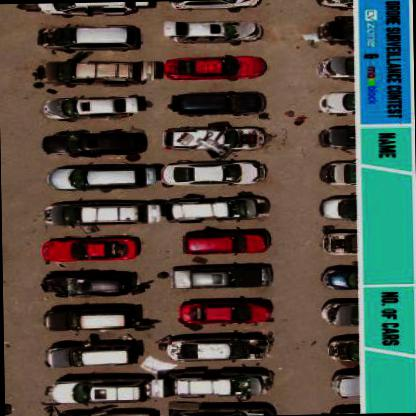car: (50, 376, 163, 405), (158, 159, 266, 188), (37, 59, 156, 84), (164, 195, 270, 223), (170, 368, 272, 397), (163, 125, 265, 154), (41, 130, 147, 157), (162, 336, 272, 362), (42, 202, 159, 226), (46, 163, 154, 189), (37, 24, 141, 51), (170, 264, 271, 291), (162, 55, 262, 82), (40, 93, 139, 120), (168, 91, 264, 118), (43, 340, 134, 368), (38, 271, 132, 297), (178, 300, 271, 326), (41, 305, 134, 331), (165, 20, 261, 45), (42, 237, 138, 262), (180, 231, 270, 256), (40, 1, 150, 14), (320, 297, 357, 326), (325, 335, 358, 365), (314, 56, 354, 80), (317, 16, 352, 43), (320, 230, 356, 256), (319, 264, 355, 290), (318, 90, 353, 116), (317, 196, 353, 221), (316, 126, 353, 150), (316, 162, 352, 186), (330, 370, 358, 398)
